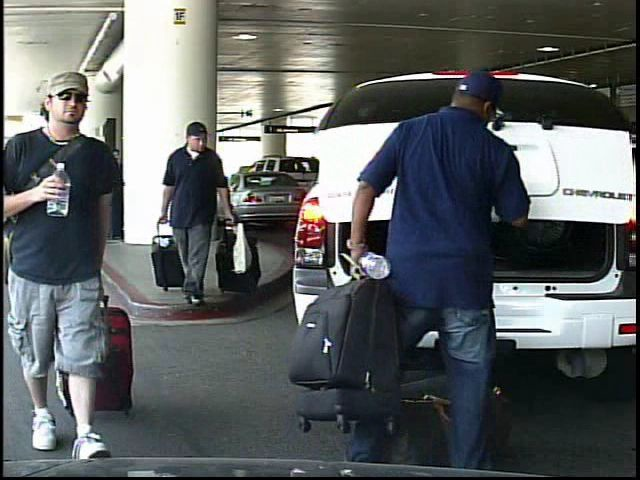person: (344, 74, 534, 475), (4, 68, 156, 472), (156, 115, 252, 308)
